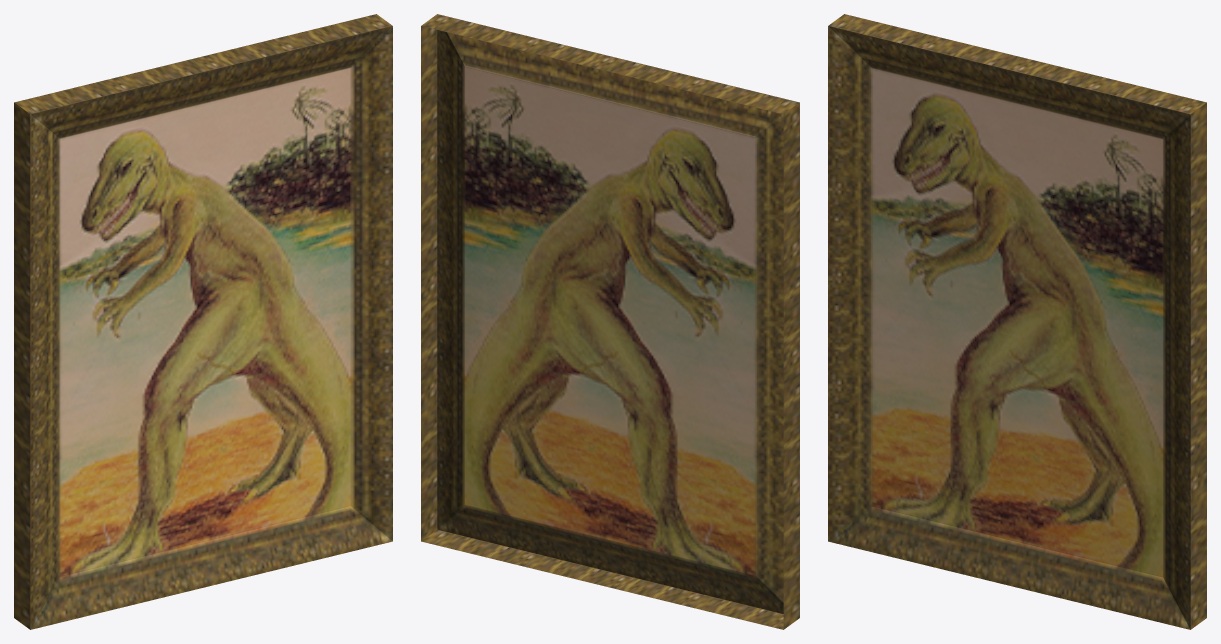
The model's file is Painting_ten.glb.
3 views of the same model, side by side, from view 1: azimuth 30°, elevation 25°; view 2: azimuth 150°, elevation 25°; view 3: azimuth 330°, elevation 25° (orthographic).
Visible parts, largest first — view 1: Painting ten; view 2: Painting ten; view 3: Painting ten.
Part boxes in pixels (x1,y1,x2,y2): Painting ten: (14,14,392,629); Painting ten: (421,14,799,629); Painting ten: (828,14,1206,629).
Bounding box in the file's own units: 0.515 × 0.7 × 0.04.
Materials: 1 (1 with a texture image).
